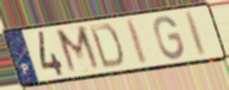4: (37, 29, 64, 78)
D: (87, 22, 126, 70)
G: (153, 14, 186, 61)
I: (124, 17, 150, 66), (183, 9, 209, 58)
M: (53, 24, 104, 77)
